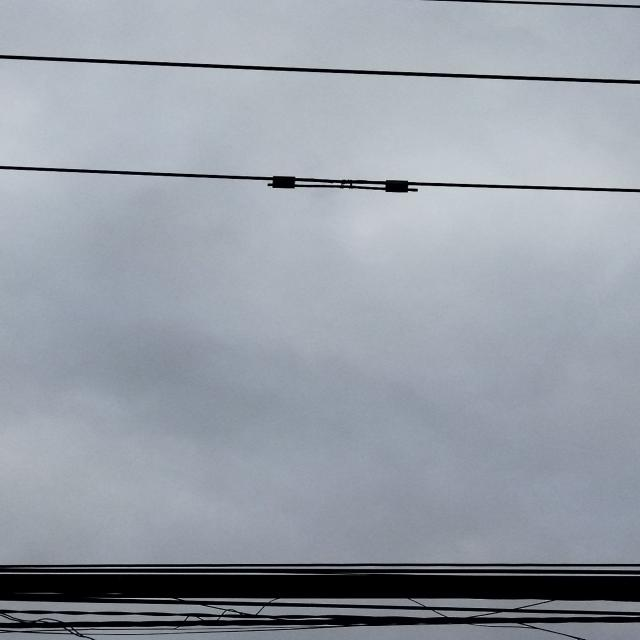wire: (0, 161, 640, 204), (0, 596, 640, 617), (0, 609, 640, 630), (0, 568, 640, 575), (0, 562, 640, 568), (423, 1, 640, 12)
